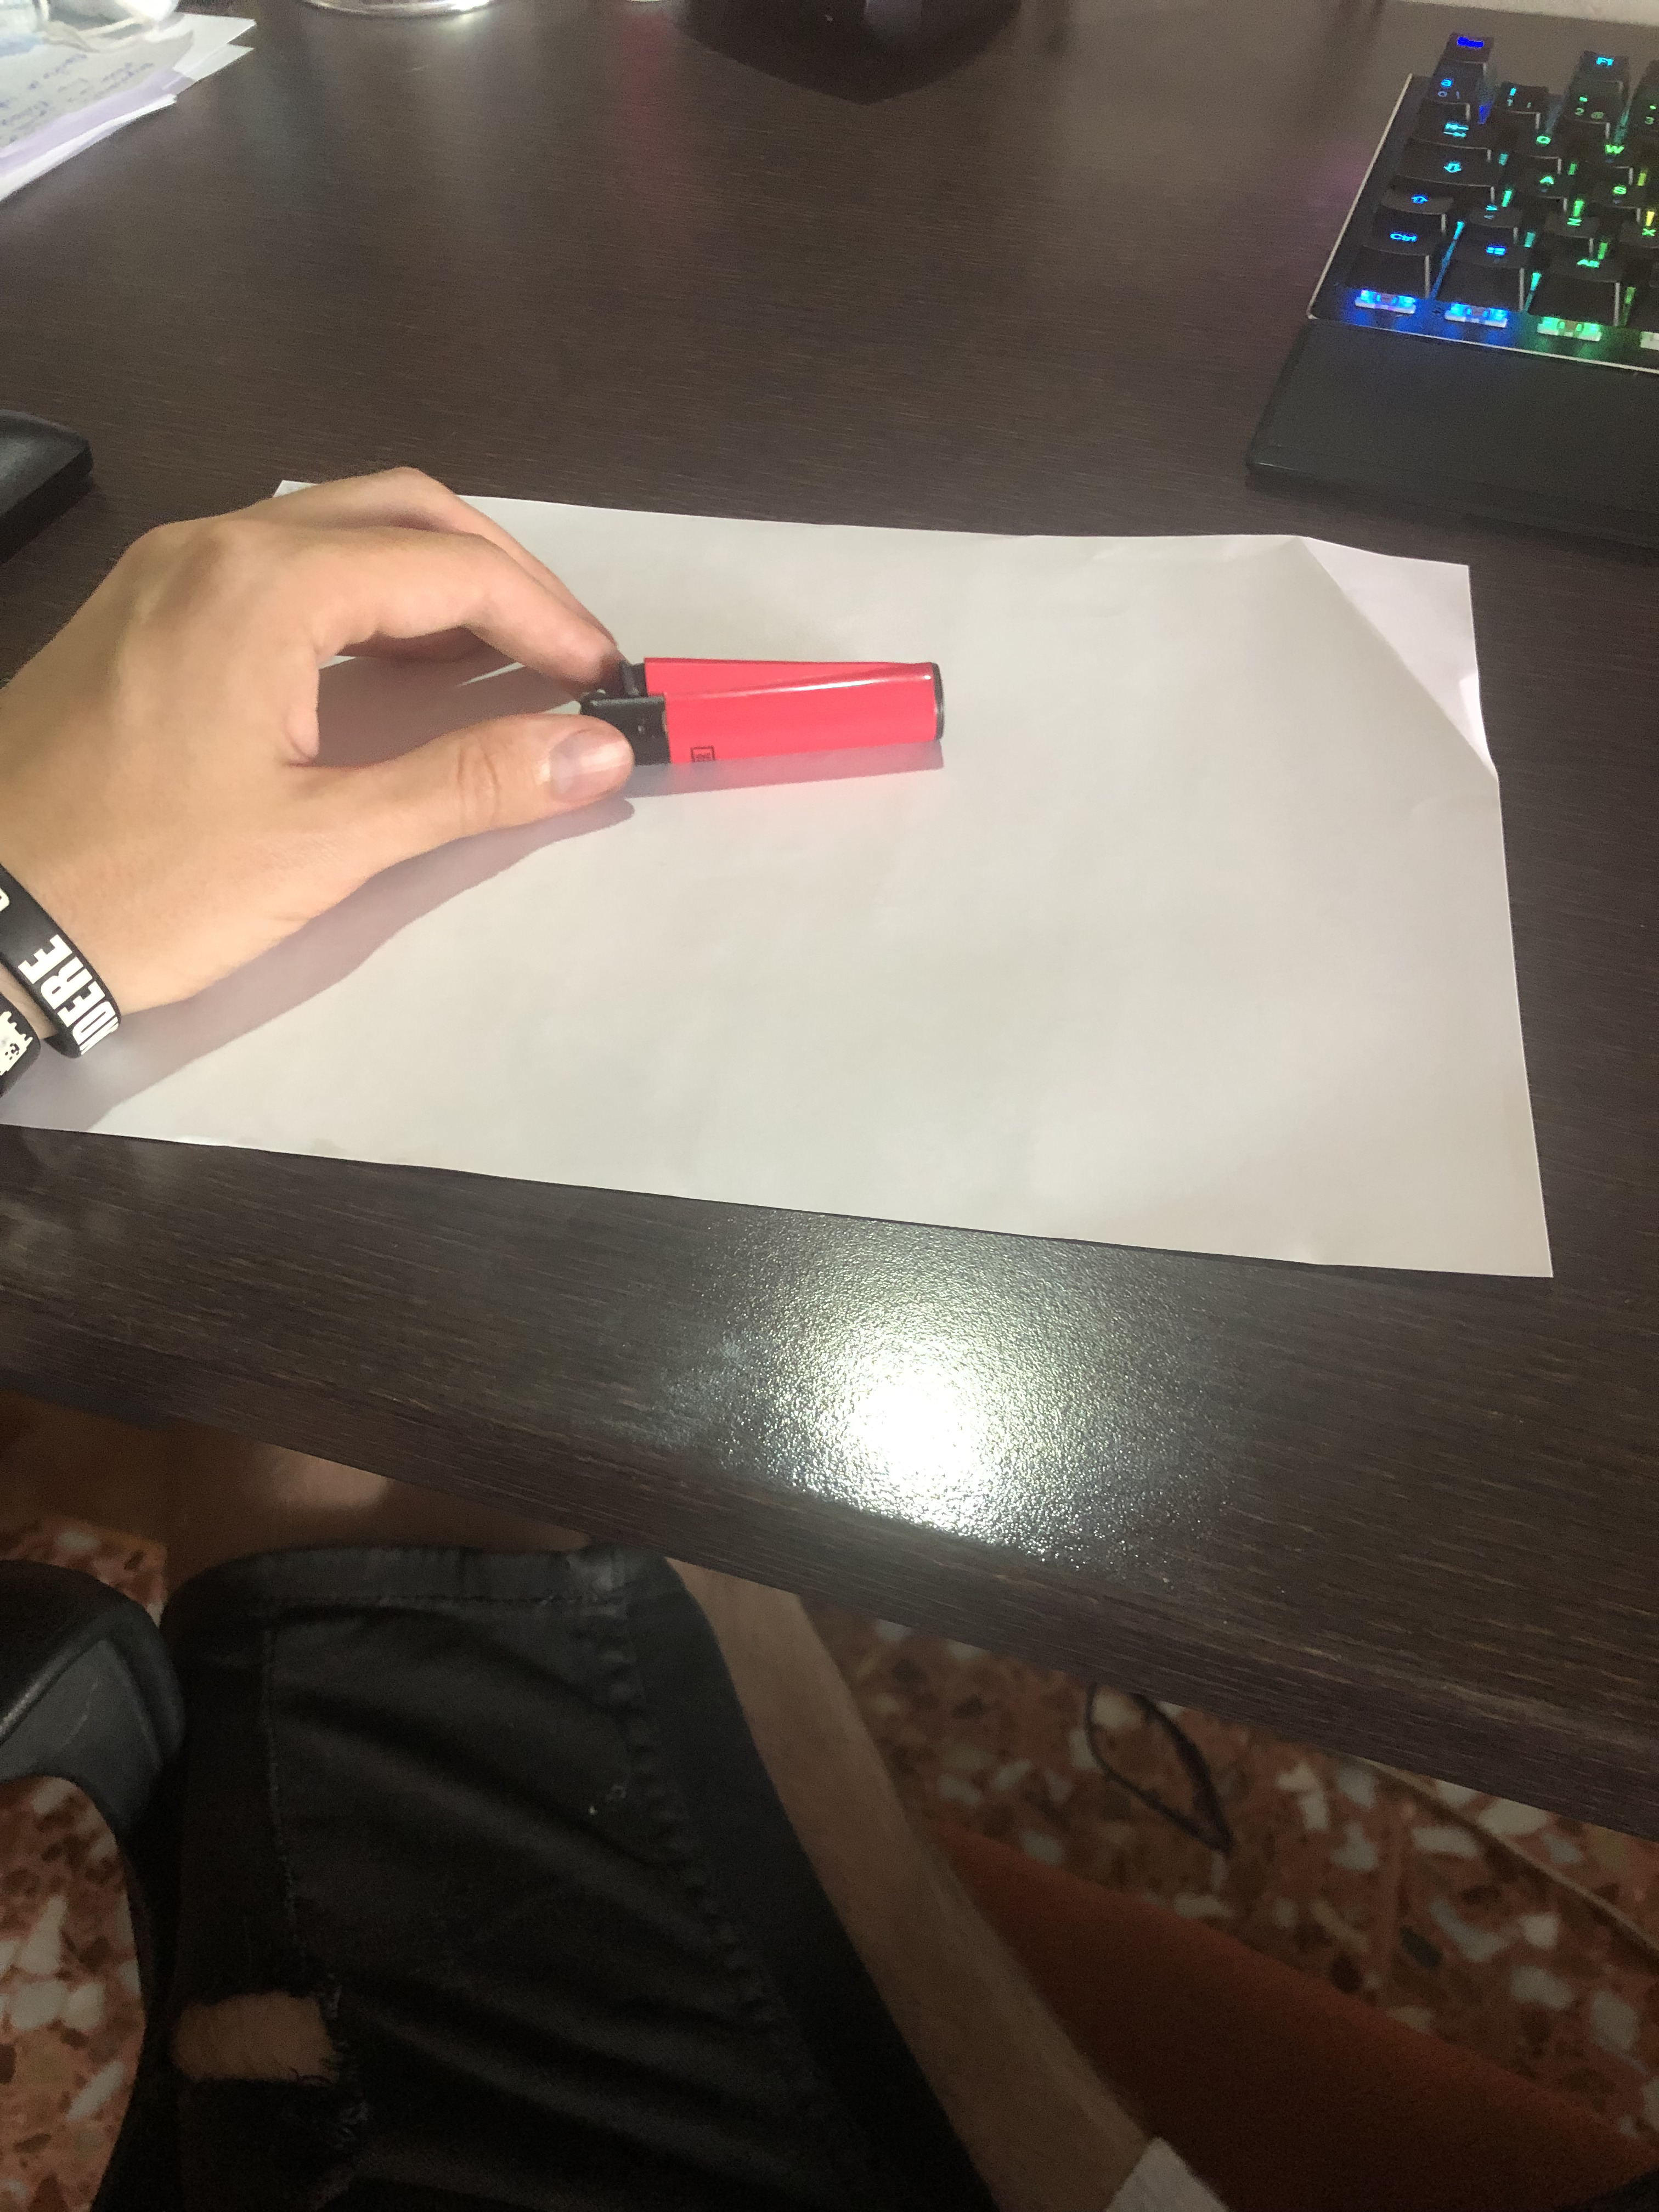Mechero: (552, 636, 948, 772)
